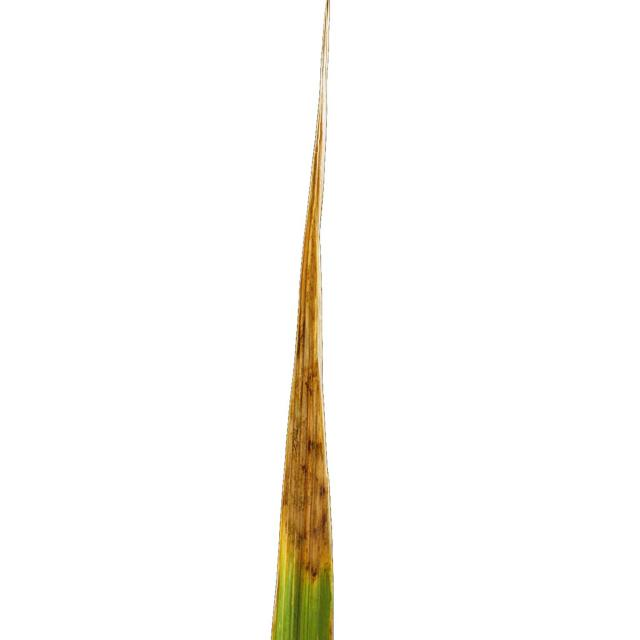Leaf scald: (218, 3, 496, 640)
